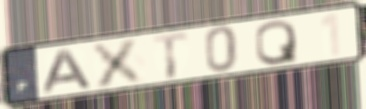0: (202, 24, 243, 75)
1: (319, 12, 343, 58)
A: (42, 47, 96, 95)
Q: (254, 18, 300, 67)
T: (150, 30, 192, 81)
X: (88, 35, 151, 90)
